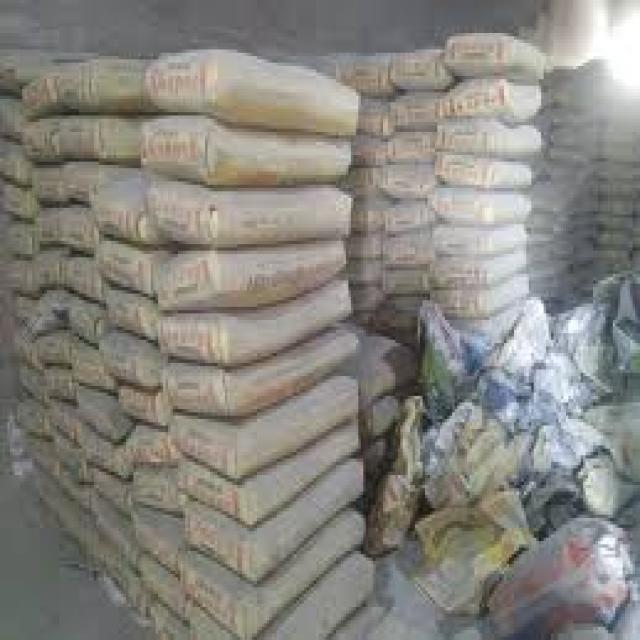cement_bag: (183, 460, 367, 590), (187, 510, 364, 640), (177, 418, 364, 533), (174, 375, 356, 481), (161, 325, 355, 422), (156, 280, 352, 368), (146, 63, 359, 132), (157, 240, 347, 316), (153, 189, 349, 255), (143, 125, 345, 186), (276, 557, 372, 640), (438, 247, 523, 297), (434, 125, 544, 161), (436, 188, 532, 229), (365, 352, 415, 408), (99, 241, 152, 293), (131, 516, 178, 570), (103, 344, 156, 387), (95, 196, 144, 241), (109, 295, 157, 339), (77, 396, 122, 441), (391, 99, 445, 134), (391, 56, 445, 90), (380, 167, 434, 201), (133, 474, 179, 512), (53, 212, 95, 253), (121, 389, 161, 432), (59, 120, 101, 160), (385, 131, 435, 163), (93, 472, 130, 514), (381, 235, 428, 267), (381, 267, 429, 298), (72, 351, 110, 390), (90, 440, 127, 480), (67, 298, 103, 339), (53, 438, 86, 482), (63, 260, 103, 296), (445, 45, 506, 68), (53, 73, 96, 104), (128, 433, 170, 463), (32, 166, 64, 204), (387, 204, 426, 234), (38, 335, 75, 366), (23, 367, 53, 405), (63, 166, 97, 199), (22, 127, 57, 159), (32, 251, 64, 286), (4, 187, 33, 219)
